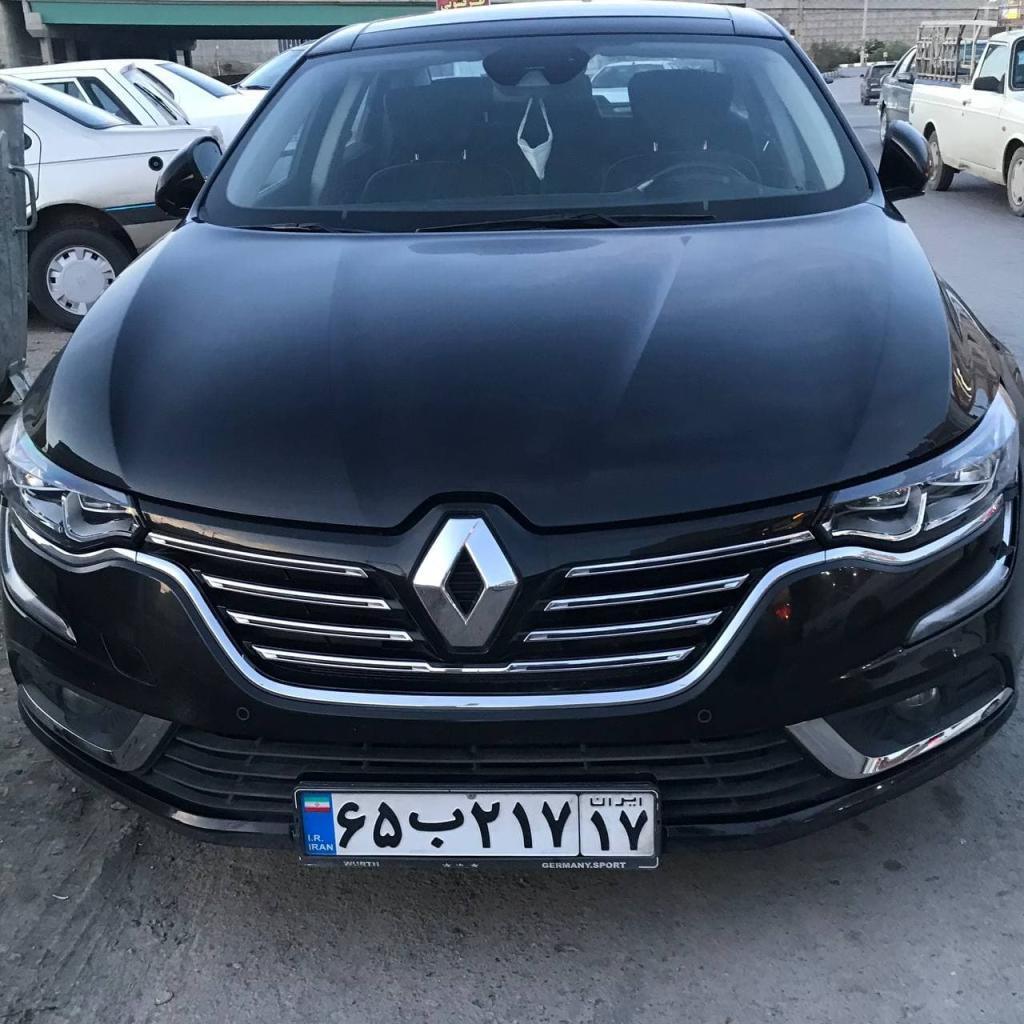Plates: (301, 793, 654, 855)
